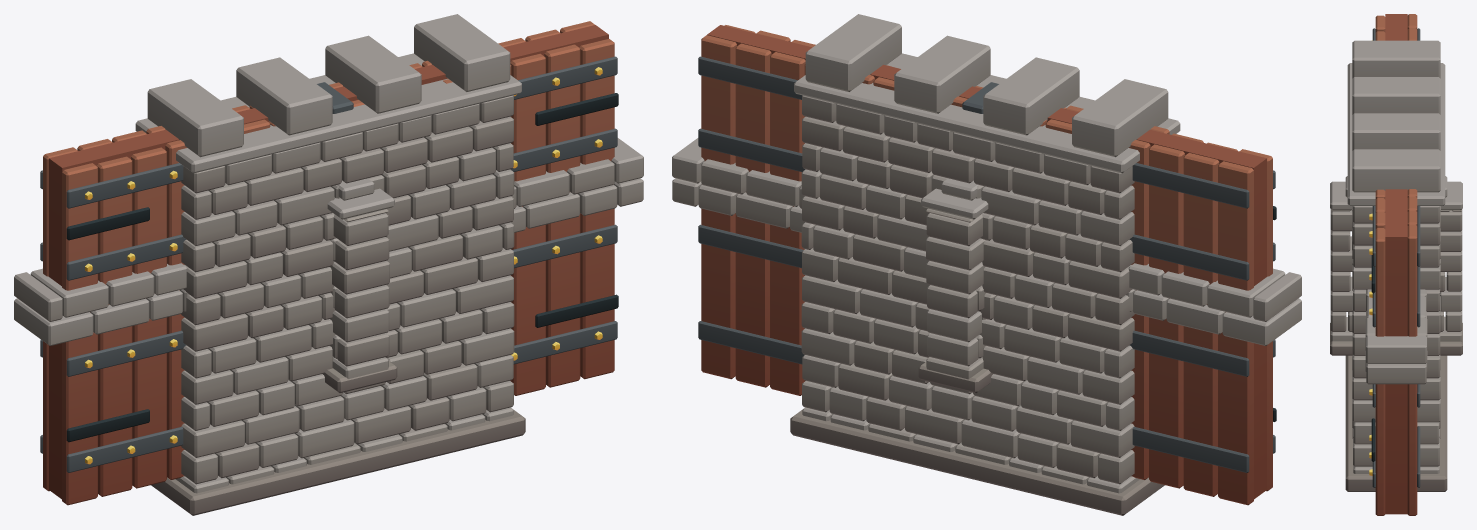
Rendered from gate_walls_parts.glb.
3 views of the same model, side by side, from view 1: azimuth 30°, elevation 25°; view 2: azimuth 150°, elevation 25°; view 3: azimuth 270°, elevation 25° (orthographic). The views are drawn at different scales.
Visible parts, largest first — view 1: GateWall, Gate, Lintel, WallSeg; view 2: GateWall, Gate, Lintel, WallSeg; view 3: GateWall, Gate, WallSeg, Lintel.
Part boxes in pixels (box(x1,y1,x2,y2)): GateWall: box(135, 14, 525, 515); Gate: box(40, 21, 618, 505); Lintel: box(14, 138, 643, 345); WallSeg: box(323, 178, 397, 392); GateWall: box(790, 14, 1180, 515); Gate: box(698, 25, 1276, 505); Lintel: box(672, 138, 1301, 345); WallSeg: box(918, 178, 992, 392); GateWall: box(1345, 40, 1447, 491); Gate: box(1369, 14, 1420, 515); WallSeg: box(1330, 176, 1462, 355); Lintel: box(1365, 289, 1427, 384).
Size of the model in its own units: 12.97 by 8 by 3.
Materials: 1 (1 with a texture image).
